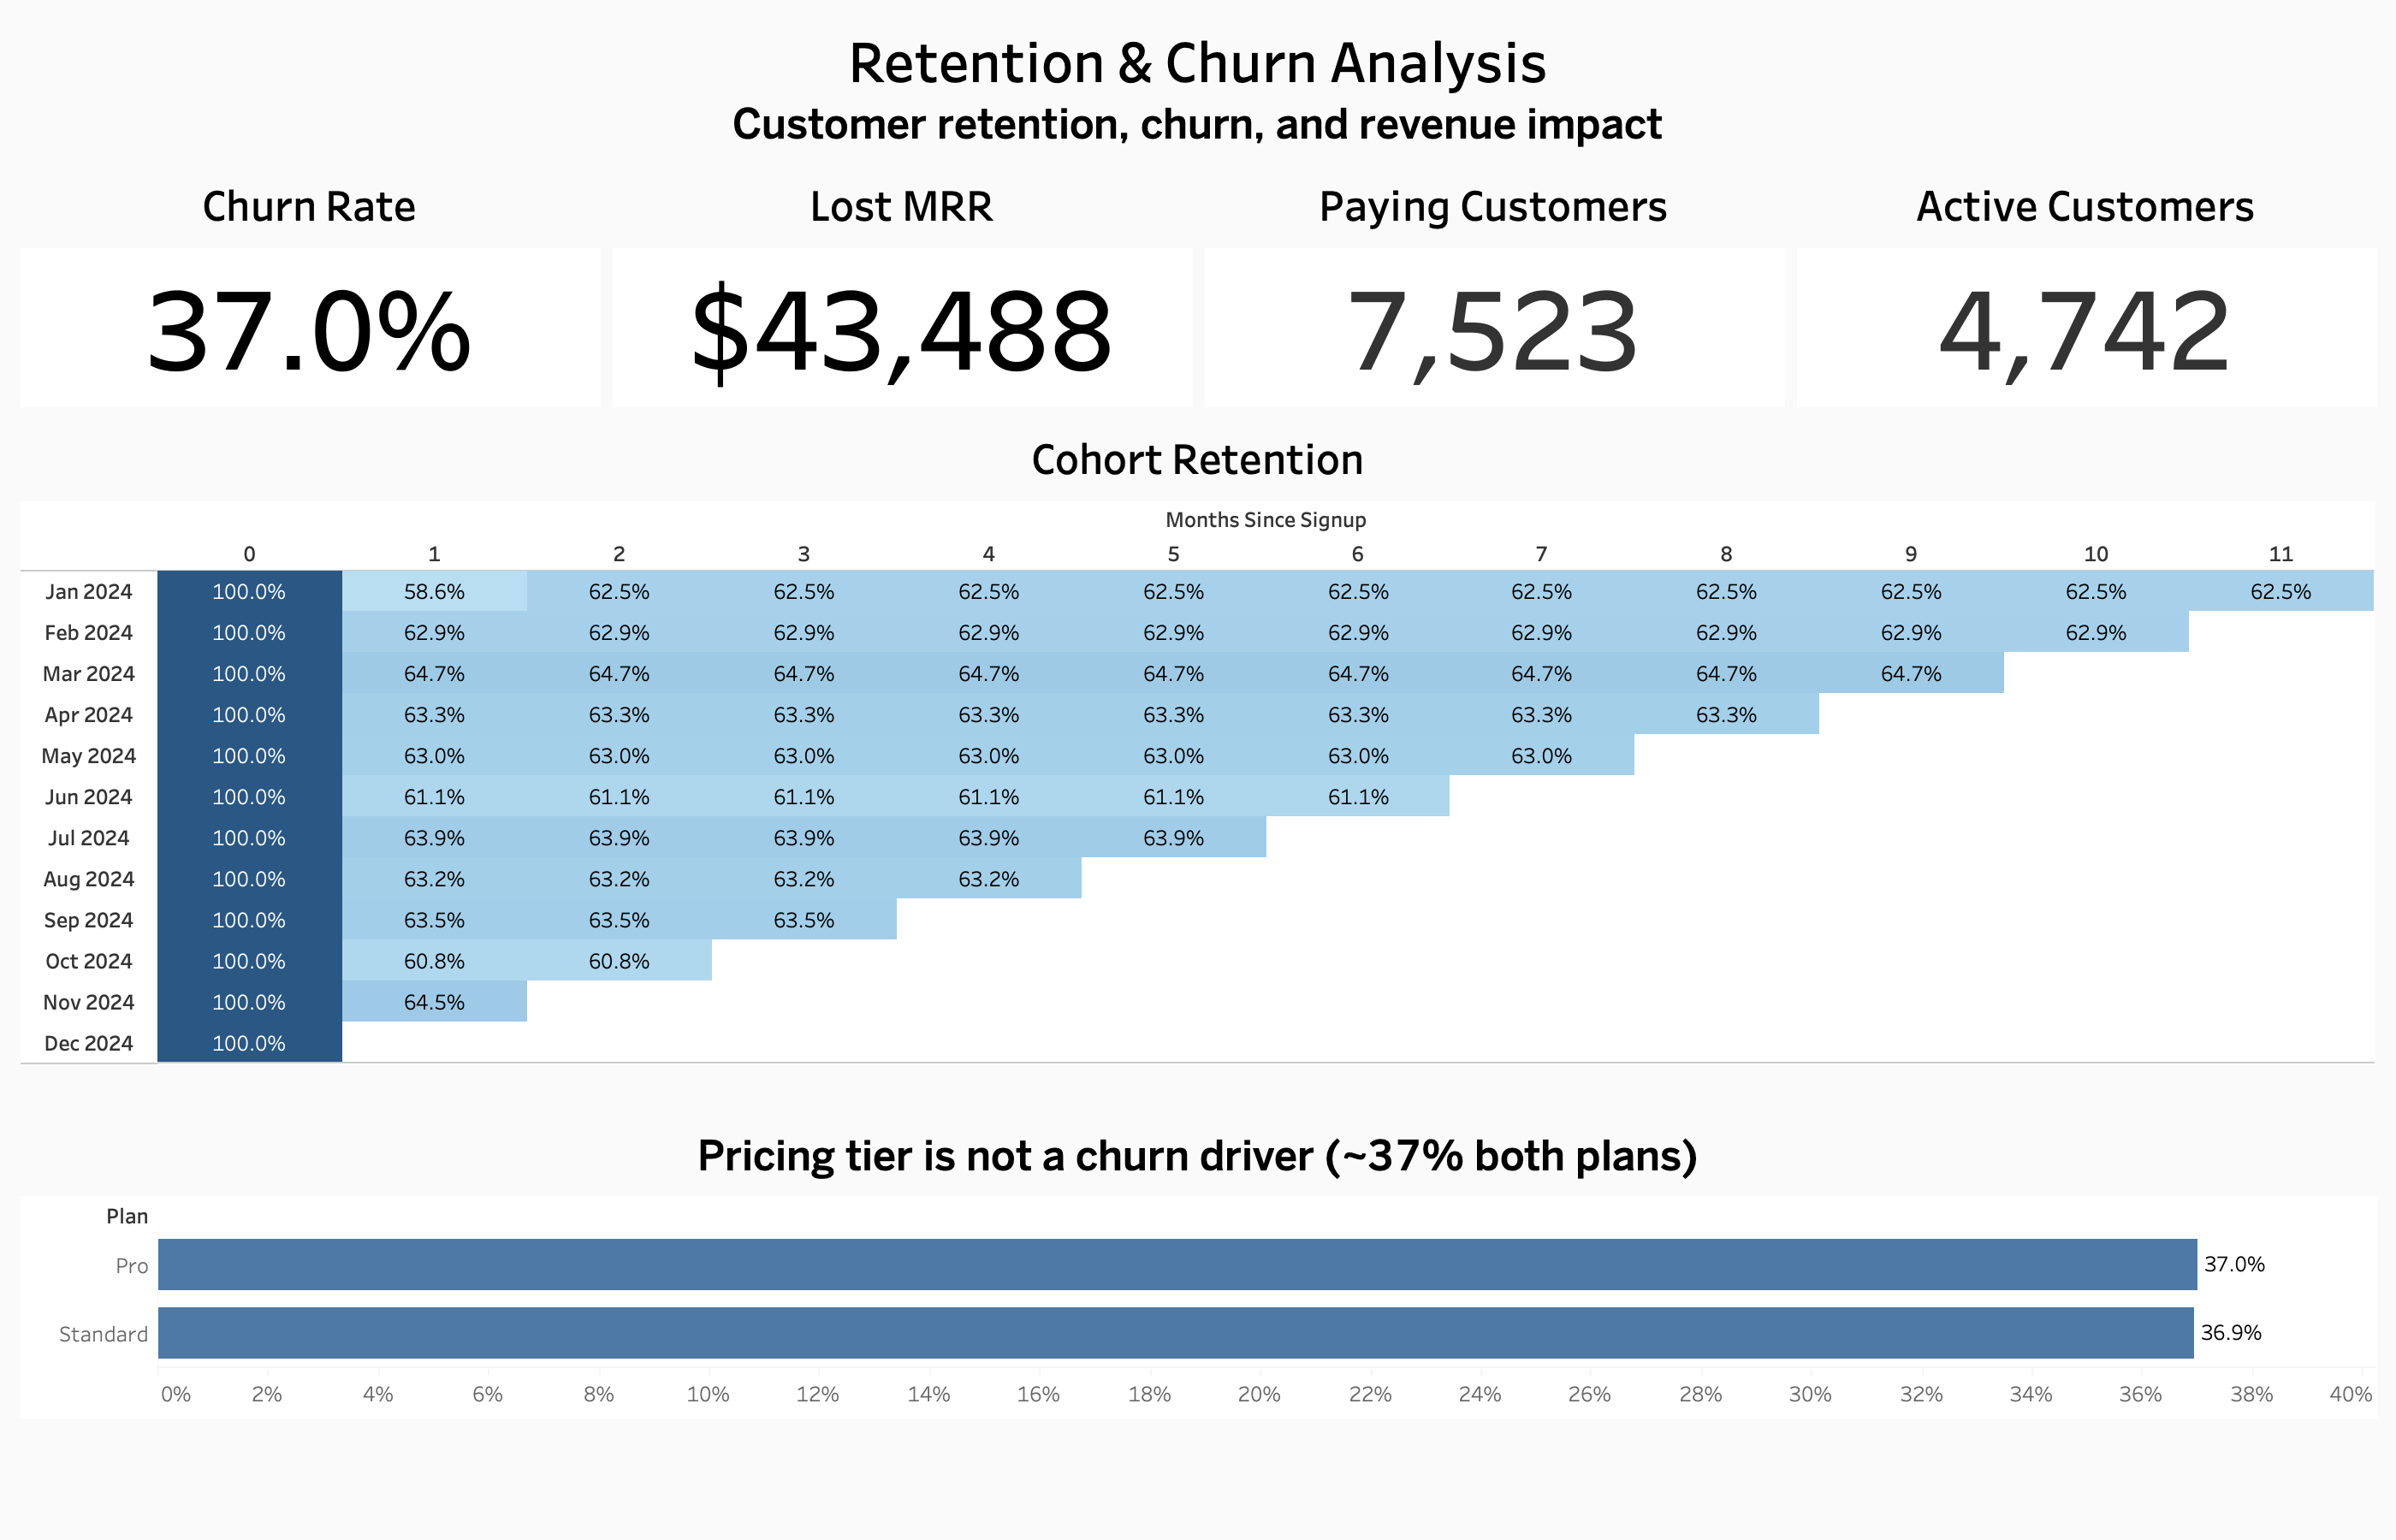

The dashboard page shown, as its layout file describes it:
{"tool":"tableau","page":{"name":"Customer & Retention Insights","canvas":[1400,900],"ordinal":1},"visuals":[{"type":"text","box":[8,8,1384,85]},{"type":"worksheet","title":"KPI - Churn Rate","mark":"Automatic","box":[8,93,346,148]},{"type":"worksheet","title":"MRR Lost KPI","mark":"Automatic","box":[354,93,346,148]},{"type":"worksheet","title":"KPI - Paid Users","mark":"Automatic","box":[700,93,346,148]},{"type":"worksheet","title":"Active Customers","mark":"Automatic","box":[1046,93,346,148]},{"type":"worksheet","title":"Cohort Retention","mark":"Square","rows":["Calculation_3207576684105736"],"cols":["month_number"],"box":[8,241,1384,410]},{"type":"worksheet","title":"Churn by Plan","mark":"Automatic","rows":["plan"],"cols":["Calculation_3207576697315340"],"box":[8,651,1384,241]}]}

Visuals, with their boxes in screenshot pixels (x1, y1, x2, y2), scaled from the page's 1400x900 canvas onto the 2396x1540 screenshot:
text: (14,14,2382,159)
"KPI - Churn Rate" worksheet: (14,159,606,412)
"MRR Lost KPI" worksheet: (606,159,1198,412)
"KPI - Paid Users" worksheet: (1198,159,1790,412)
"Active Customers" worksheet: (1790,159,2382,412)
"Cohort Retention" worksheet (Square marks): (14,412,2382,1114)
"Churn by Plan" worksheet: (14,1114,2382,1526)
